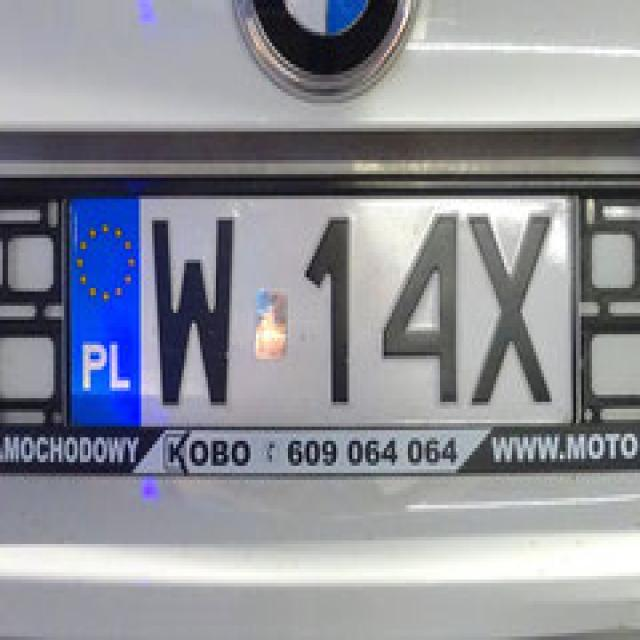pl_license_plate: (67, 192, 573, 423)
